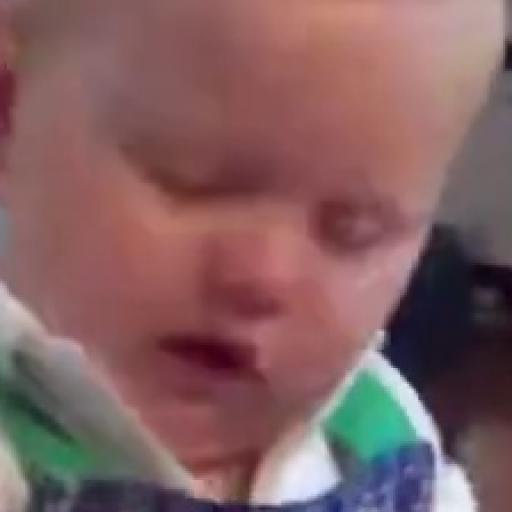Autism: (10, 14, 452, 464)
